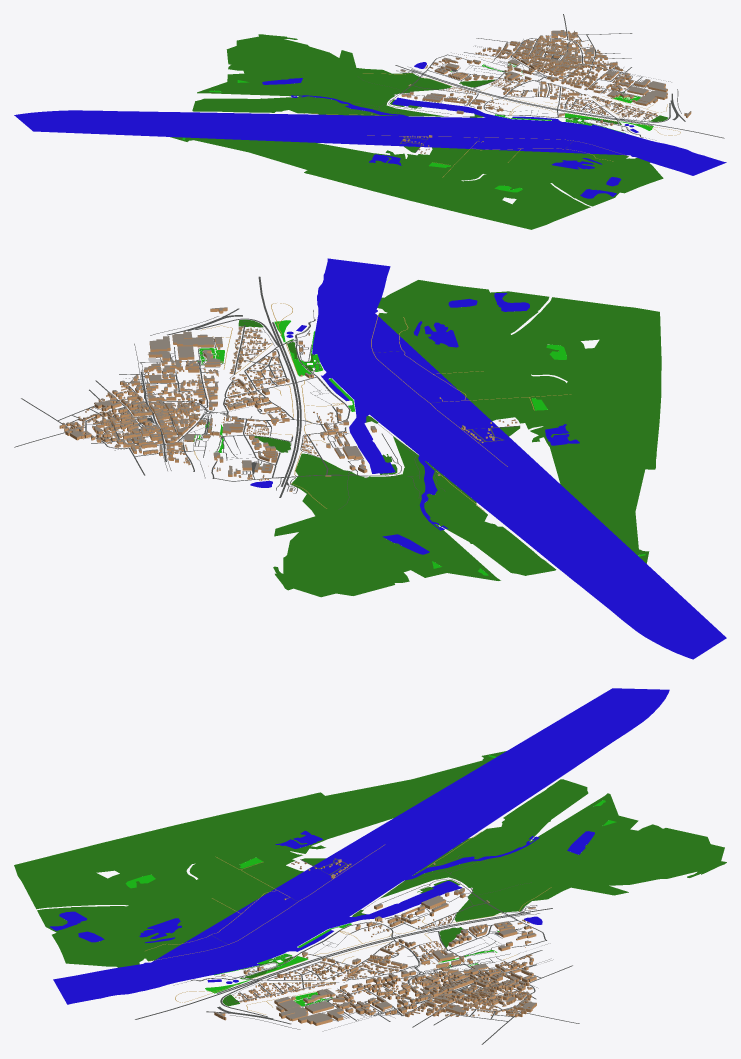
File: city.fbx
3 views of the same model, one above another, from view 1: azimuth 30°, elevation 25°; view 2: azimuth 150°, elevation 25°; view 3: azimuth 270°, elevation 25° (orthographic). The views are drawn at different scales.
Visible parts, largest first — view 1: None_forest, None_water, None_buildings, None_roads_residential, None_vegetation, None_roads_motorway, None_roads_track, None_roads_service; view 2: None_forest, None_water, None_buildings, None_roads_residential, None_vegetation, None_roads_motorway, None_roads_service, None_roads_track; view 3: None_forest, None_water, None_buildings, None_roads_residential, None_vegetation, None_roads_motorway, None_roads_track, None_roads_service.
Boxes of the visible parts, x1,y1,x2,y2 form: None_forest: (170, 34, 668, 229); None_water: (14, 62, 726, 198); None_buildings: (370, 30, 691, 153); None_roads_residential: (400, 14, 659, 152); None_vegetation: (182, 63, 653, 192); None_roads_motorway: (395, 65, 724, 138); None_roads_track: (304, 57, 680, 177); None_roads_service: (388, 38, 681, 132); None_forest: (238, 280, 661, 597); None_water: (250, 258, 726, 659); None_buildings: (59, 307, 517, 491); None_roads_residential: (14, 319, 520, 481); None_vegetation: (193, 320, 645, 575); None_roads_motorway: (167, 276, 301, 497); None_roads_service: (93, 316, 401, 493); None_roads_track: (194, 303, 571, 511); None_forest: (14, 751, 726, 1006); None_water: (50, 688, 669, 1004); None_buildings: (214, 859, 536, 1025); None_roads_residential: (191, 858, 579, 1044); None_vegetation: (125, 755, 616, 1006); None_roads_motorway: (135, 908, 552, 1024); None_roads_track: (145, 831, 551, 1014); None_roads_service: (215, 879, 539, 1029).
Size of the model in its own units: 456946 by 2240 by 386212.
